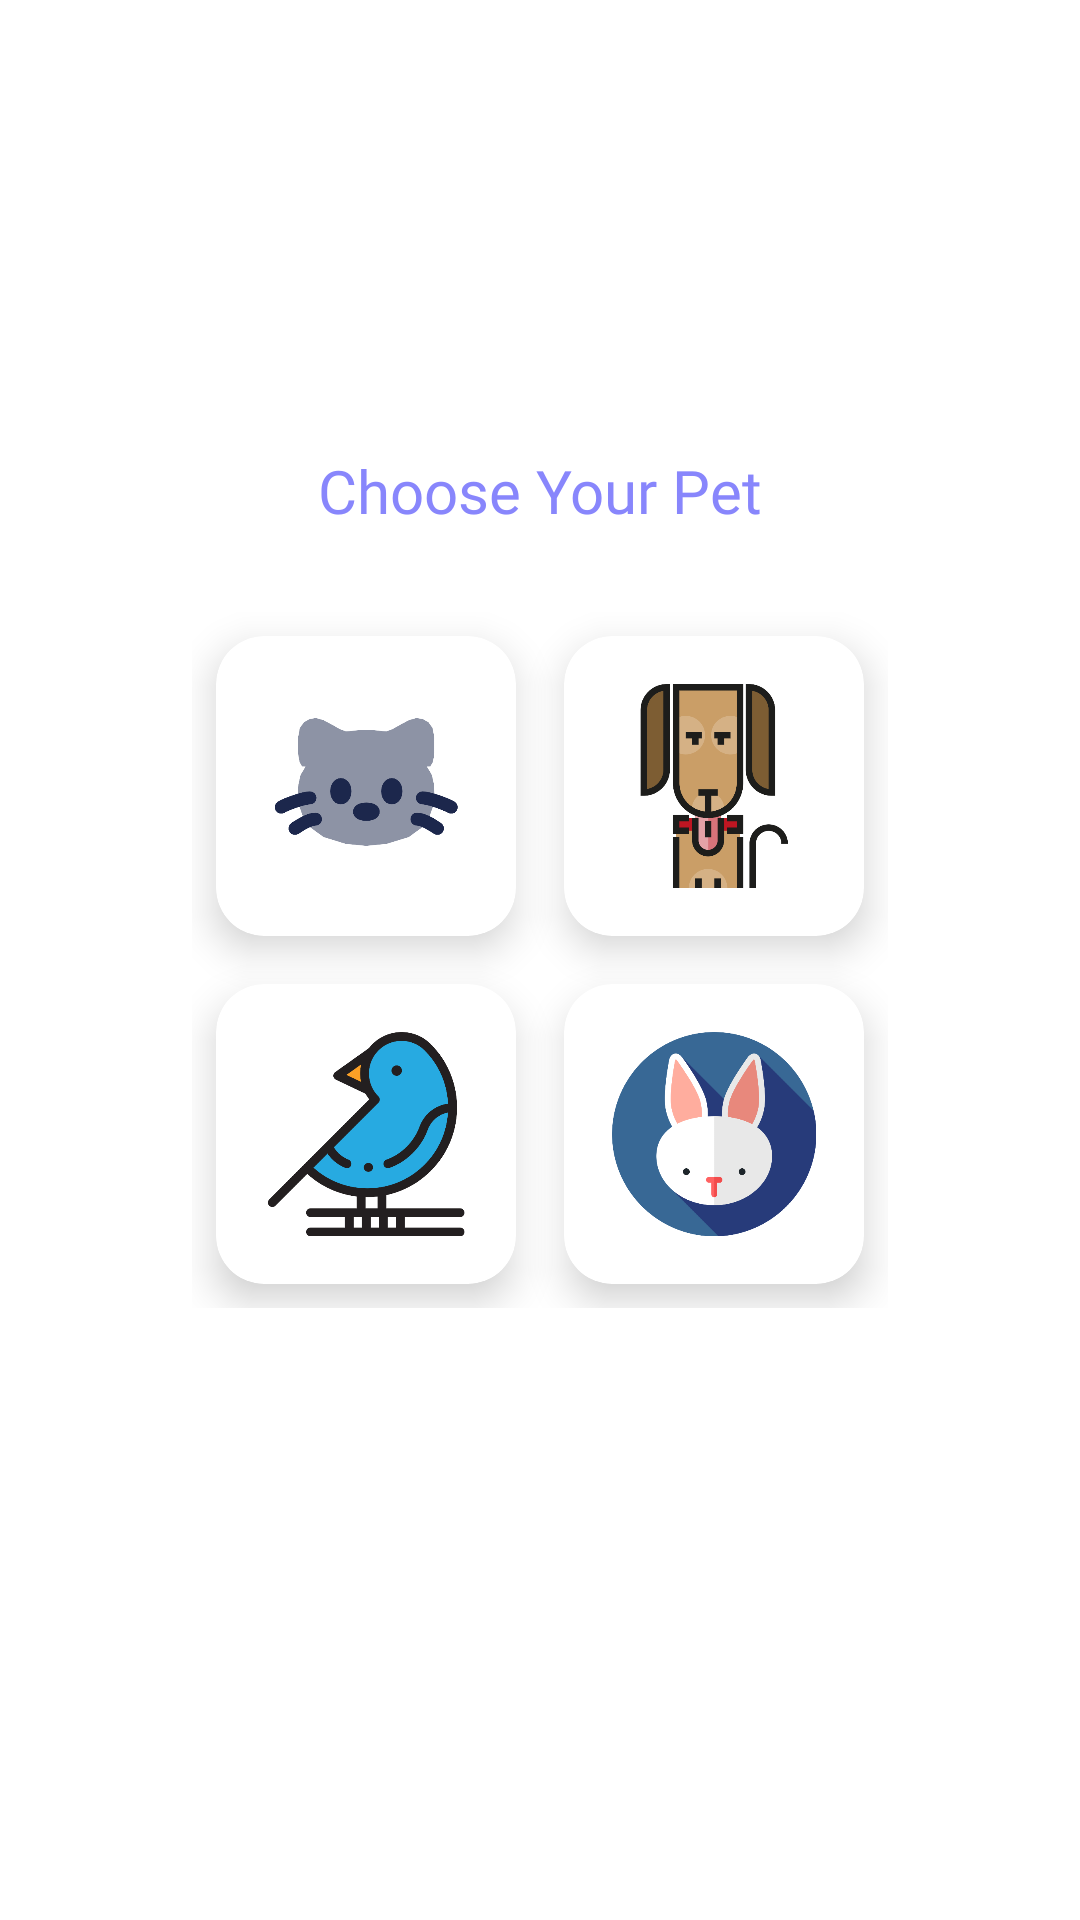

Icon click points for this 1080px×1920px phone screenshot, format (x=x, y=y):
Bird: (x=366, y=1134)
Cat: (x=366, y=782)
Dog: (x=714, y=786)
Rabbit: (x=714, y=1134)
